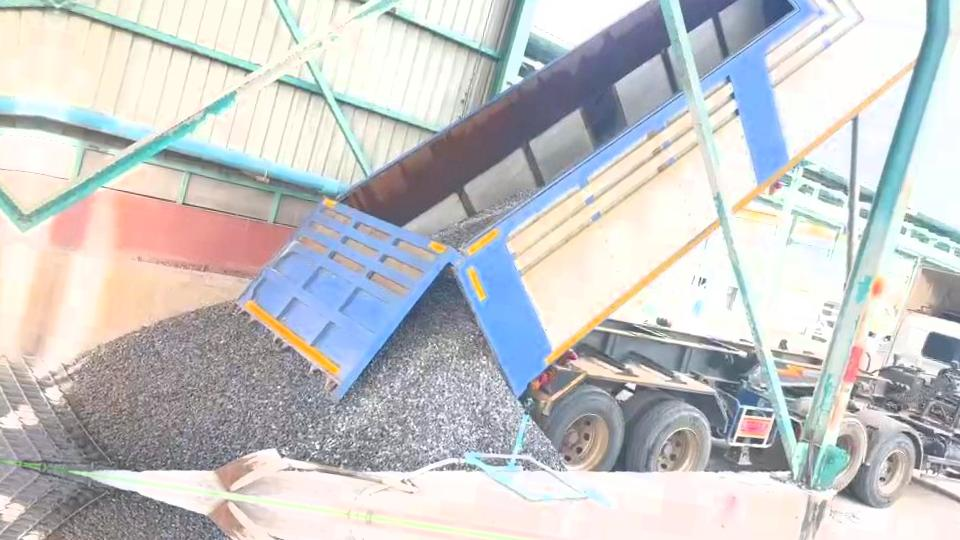gravel: (67, 273, 522, 470), (432, 189, 535, 247), (524, 421, 560, 468)
